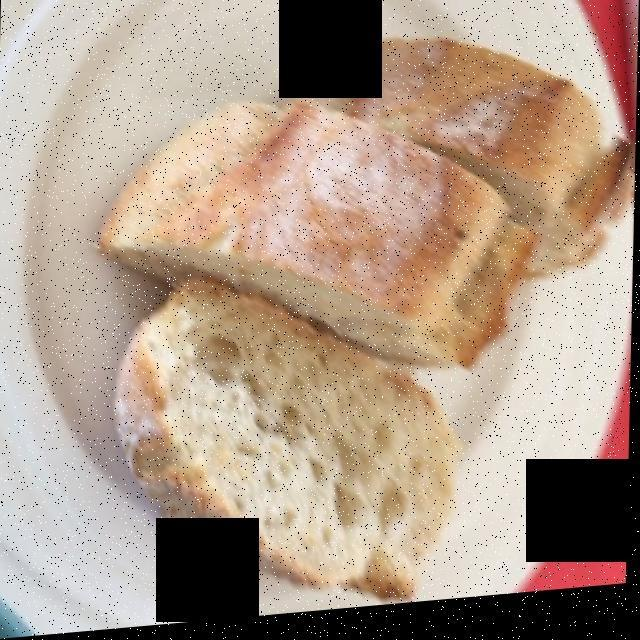bread: (94, 38, 622, 595)
